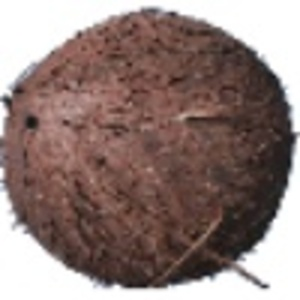coco: (1, 7, 298, 290)
